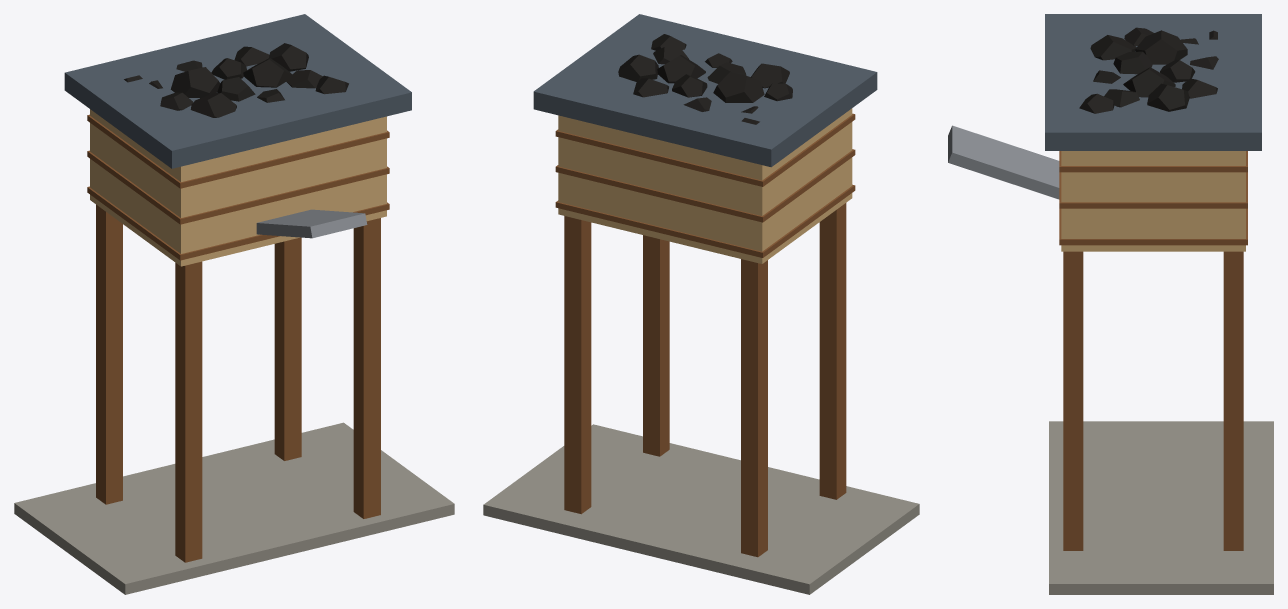
The model's file is coaling-stage.glb.
3 views of the same model, side by side, from view 1: azimuth 30°, elevation 25°; view 2: azimuth 150°, elevation 25°; view 3: azimuth 270°, elevation 25° (orthographic). The views are drawn at different scales.
Parts seen in each view (by area): view 1: darkWood, stone, slate, wood, coal, steel; view 2: darkWood, stone, slate, wood, coal; view 3: stone, slate, darkWood, wood, coal, steel.
Boxes of the visible parts, x1,y1,x2,y2 form: darkWood: (87,114,389,562); stone: (14,422,454,594); slate: (64,14,411,168); wood: (90,109,386,266); coal: (124,43,348,117); steel: (256,209,367,238); darkWood: (555,113,855,557); stone: (483,424,919,594); slate: (533,14,877,167); wood: (558,108,852,263); coal: (618,34,792,124); stone: (1049,421,1273,594); slate: (1045,14,1261,150); darkWood: (1059,151,1247,550); wood: (1061,151,1245,251); coal: (1079,27,1218,113); steel: (948,125,1059,199).
Size of the model in its own units: 96 by 127 by 81.18.
